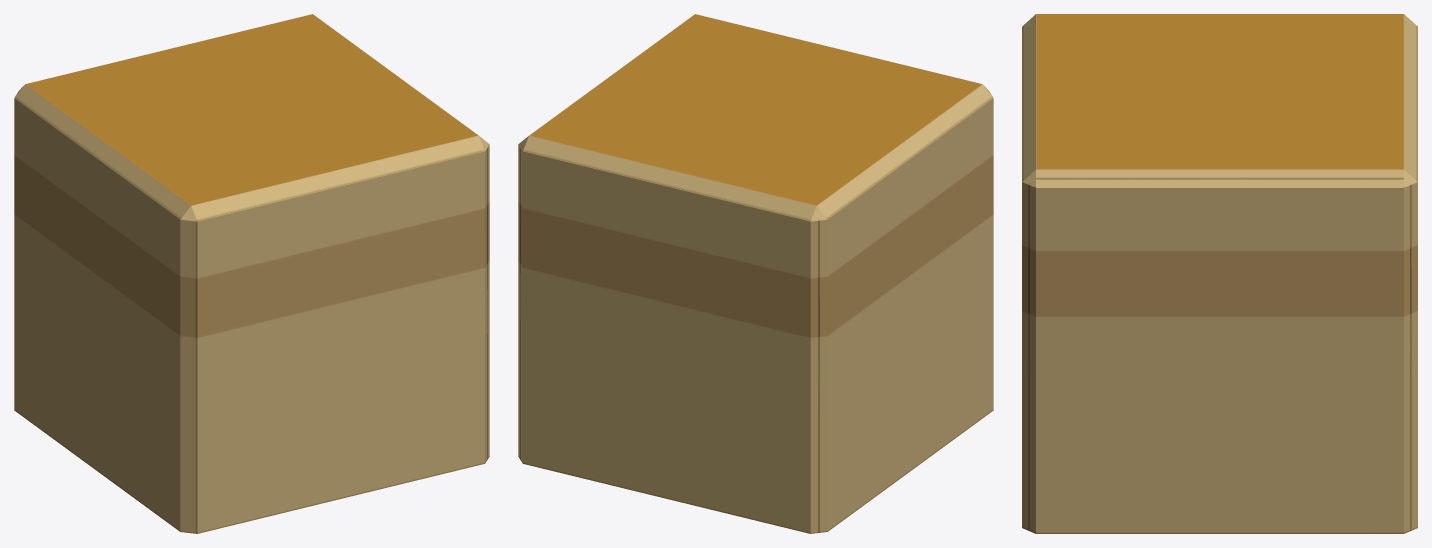
Rendered from square2.fbx.
The picture shows the model from 3 angles, left to right: view 1: azimuth 30°, elevation 25°; view 2: azimuth 150°, elevation 25°; view 3: azimuth 270°, elevation 25°; orthographic projection. The views are drawn at different scales.
Visible parts, largest first — view 1: Cube.131; view 2: Cube.131; view 3: Cube.131.
Boxes of the visible parts, box(x1,y1,x2,y2) form: Cube.131: box(14, 14, 489, 533); Cube.131: box(518, 14, 993, 533); Cube.131: box(1022, 14, 1417, 533).
Size of the model in its own units: 200 by 200 by 200.
